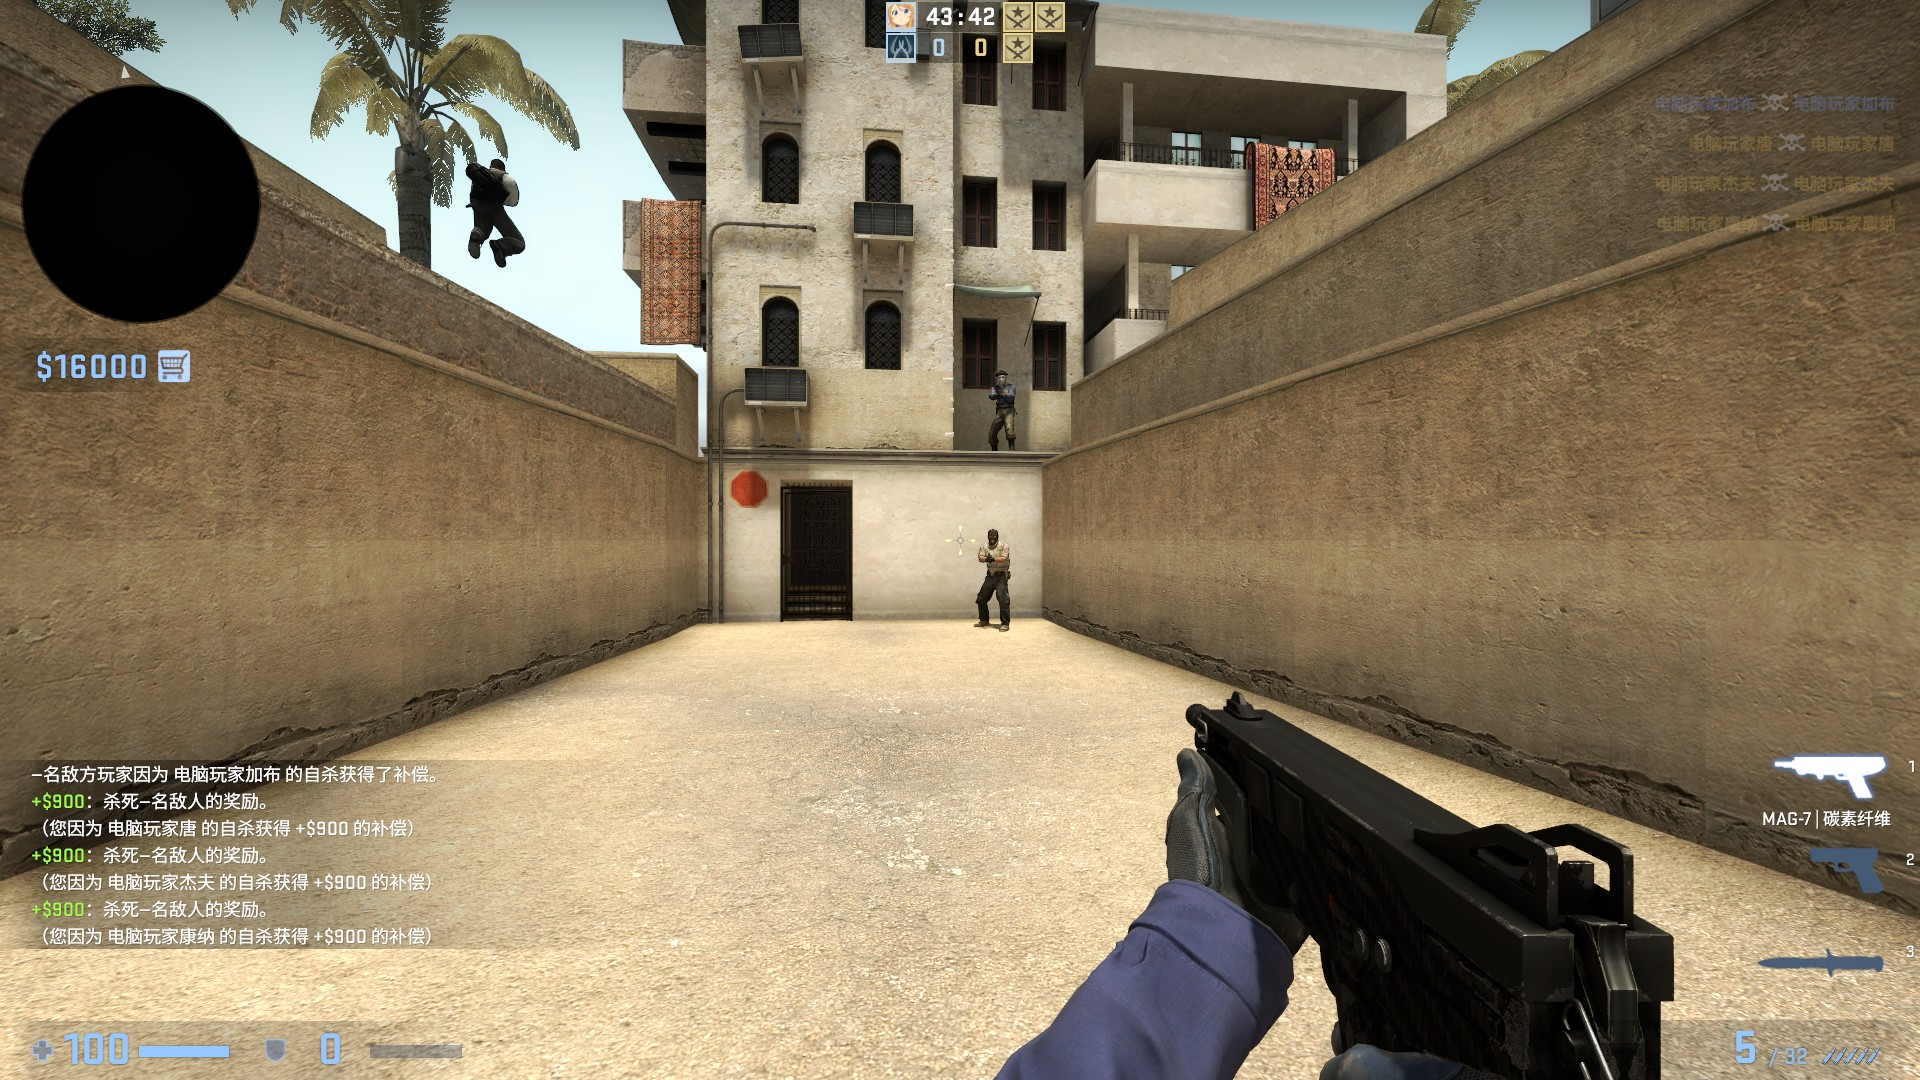head: (983, 528, 998, 548), (991, 369, 1008, 386)
